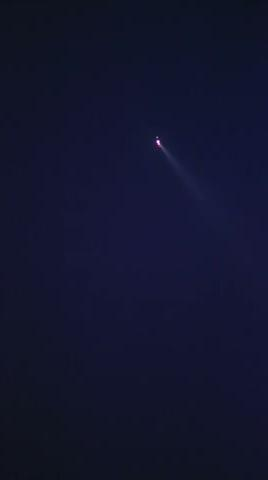Plane: (144, 122, 192, 188)
